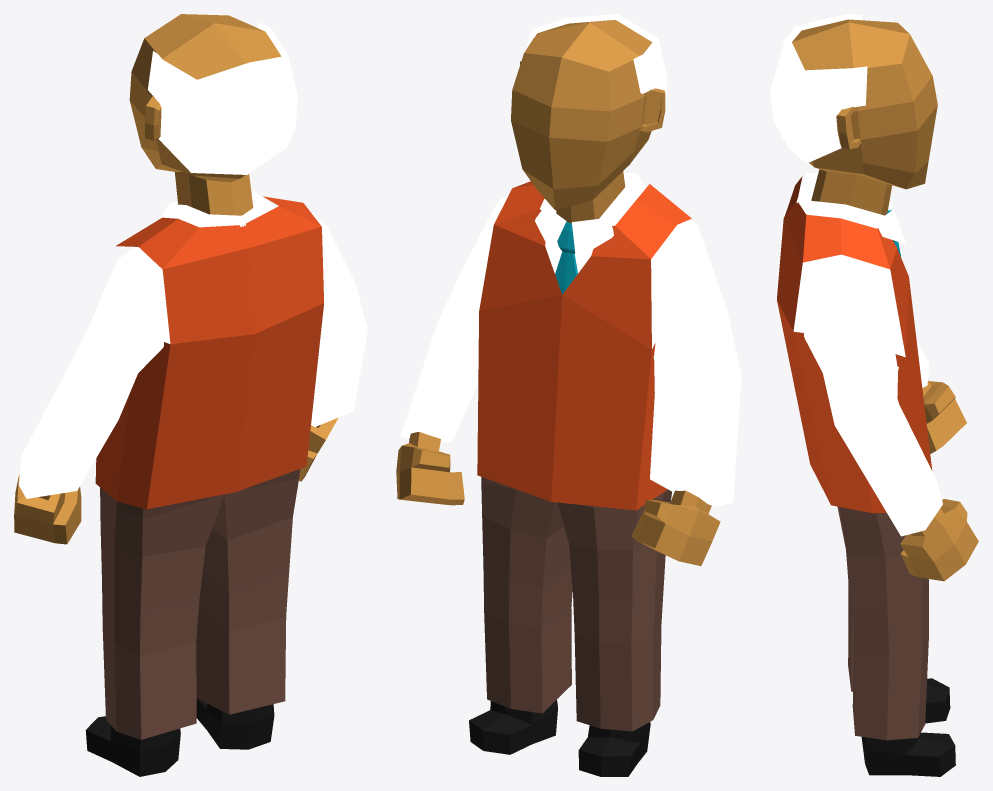
The picture shows the model from 3 angles, left to right: view 1: azimuth 30°, elevation 25°; view 2: azimuth 150°, elevation 25°; view 3: azimuth 270°, elevation 25°; orthographic projection. The views are drawn at different scales.
Visible parts, largest first — view 1: Buffer Layer (×5); view 2: Buffer Layer (×6); view 3: Buffer Layer (×5).
Boxes of the visible parts, <box> form: Buffer Layer (×5): <box>14,14,367,776</box>; Buffer Layer (×6): <box>396,14,741,776</box>; Buffer Layer (×5): <box>770,14,978,776</box>.
Size of what is drawn, in the model's own units: 0.0212 by 0.0449 by 0.0118.
